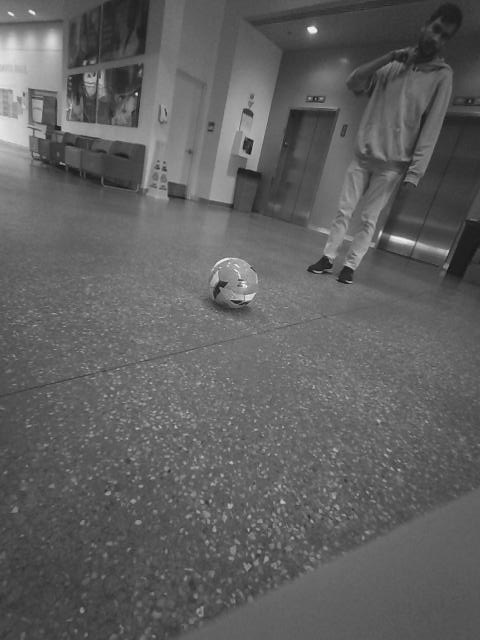ball: (205, 255, 263, 310)
